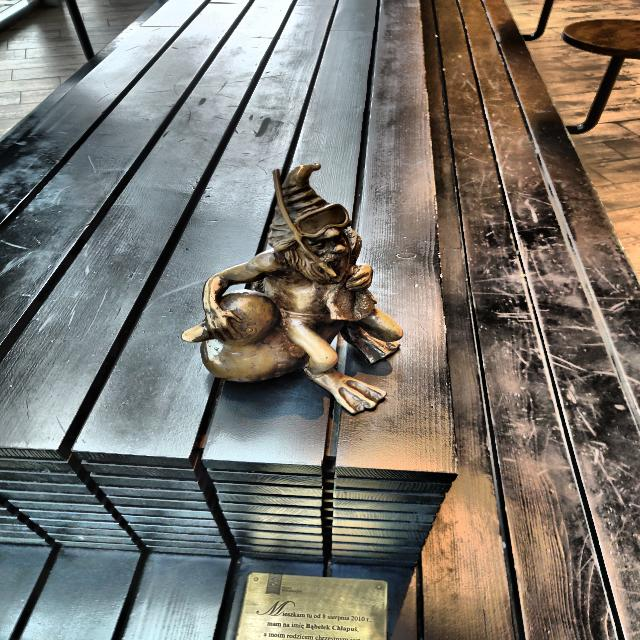Babelek_Chlaptus: (182, 164, 403, 414)
